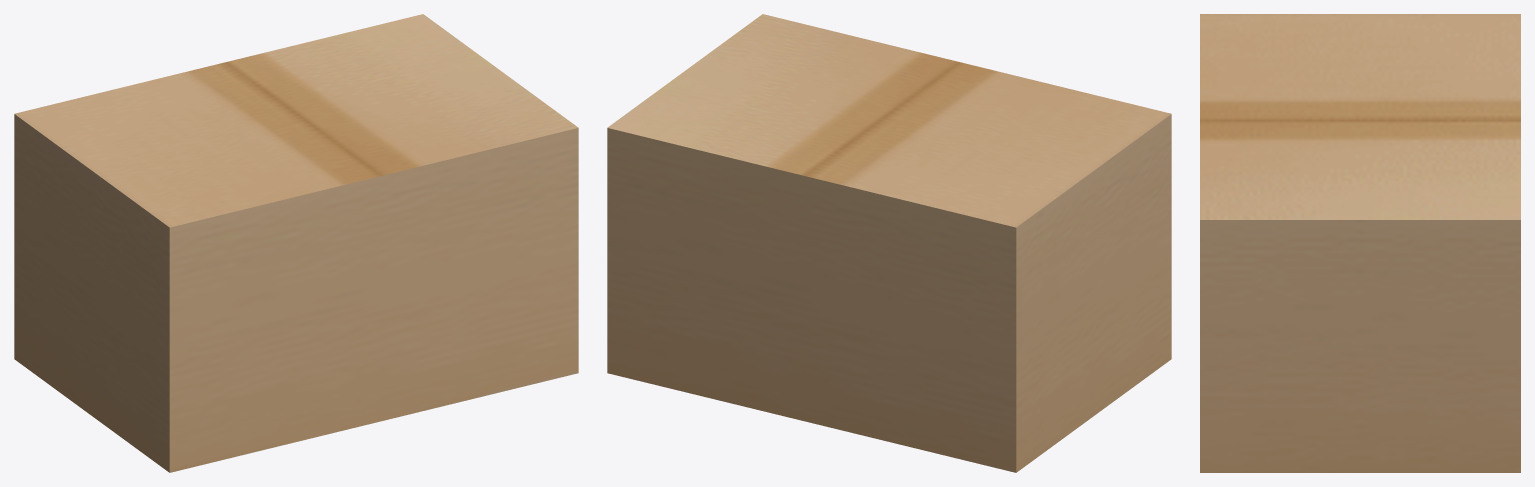
3 views of the same model, side by side, from view 1: azimuth 30°, elevation 25°; view 2: azimuth 150°, elevation 25°; view 3: azimuth 270°, elevation 25° (orthographic). The views are drawn at different scales.
Visible parts, largest first — view 1: Box 1_Material_0; view 2: Box 1_Material_0; view 3: Box 1_Material_0.
Part boxes in pixels (box(x1,y1,x2,y2)): Box 1_Material_0: box(14, 14, 578, 472); Box 1_Material_0: box(607, 14, 1171, 472); Box 1_Material_0: box(1200, 14, 1520, 472).
Size of the model in its own units: 4.04 by 2.32 by 2.66.
1 material, 1 textured.
